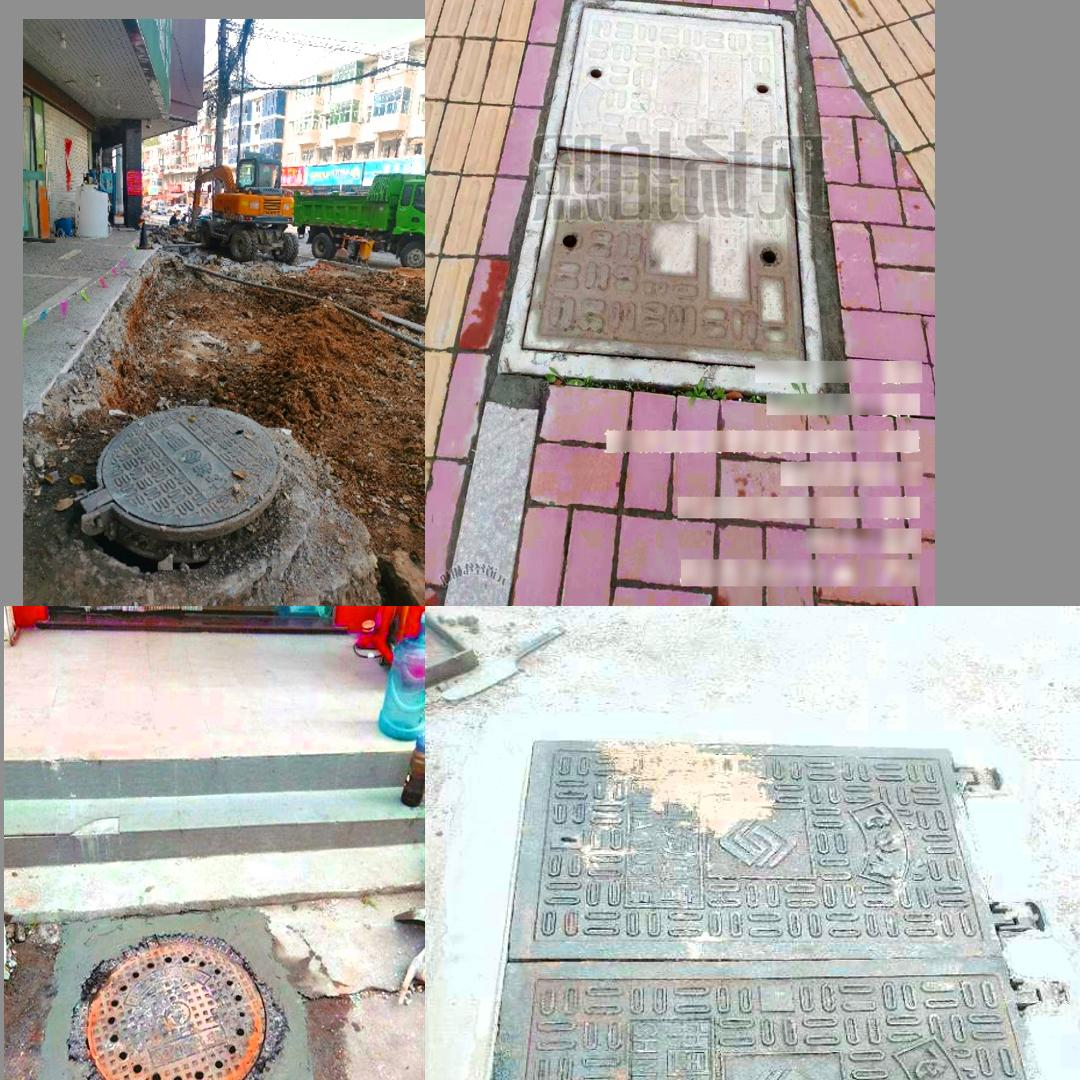good: (455, 736, 1080, 1080), (537, 12, 801, 366), (34, 908, 291, 1080), (77, 404, 282, 553)
